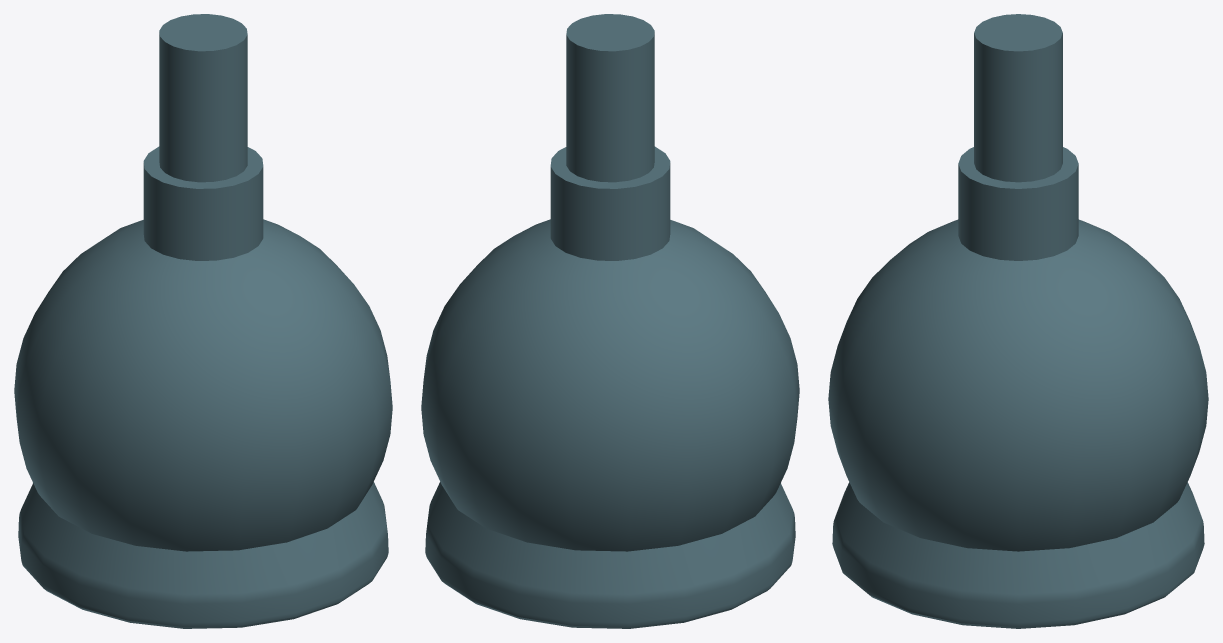
Rendered from liquids.glb.
3 renders of one model, left to right at view 1: azimuth 30°, elevation 25°; view 2: azimuth 150°, elevation 25°; view 3: azimuth 270°, elevation 25°, orthographic.
Parts seen in each view (by area): view 1: florence_flask3, Erlenmeyer_flask3, Glass_Lab_test_tube6; view 2: florence_flask3, Erlenmeyer_flask3, Glass_Lab_test_tube6; view 3: florence_flask3, Erlenmeyer_flask3, Glass_Lab_test_tube6.
Part boxes in pixels (bbox=[...]): florence_flask3: bbox=[14, 146, 392, 551]; Erlenmeyer_flask3: bbox=[18, 482, 388, 628]; Glass_Lab_test_tube6: bbox=[159, 14, 247, 182]; florence_flask3: bbox=[421, 146, 799, 551]; Erlenmeyer_flask3: bbox=[425, 482, 795, 628]; Glass_Lab_test_tube6: bbox=[566, 14, 654, 182]; florence_flask3: bbox=[828, 147, 1208, 551]; Erlenmeyer_flask3: bbox=[832, 482, 1204, 628]; Glass_Lab_test_tube6: bbox=[974, 14, 1062, 182].
Size of the model in its own units: 0.1329 by 0.2077 by 0.1329.
